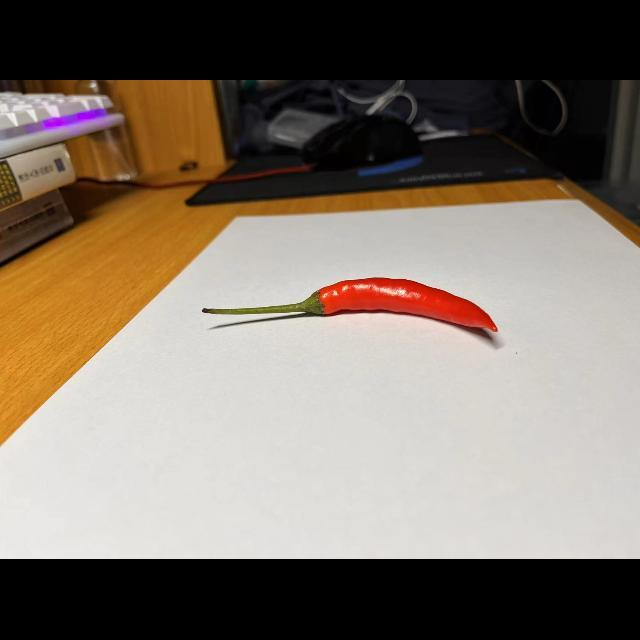chili_pepper: (190, 272, 504, 344)
